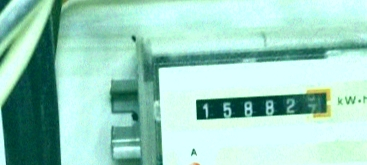1: (200, 100, 210, 117)
2: (284, 95, 295, 112)
5: (221, 99, 232, 116)
7: (306, 101, 316, 112)
8: (263, 97, 274, 115), (242, 99, 253, 116)
screen: (187, 82, 337, 128)
